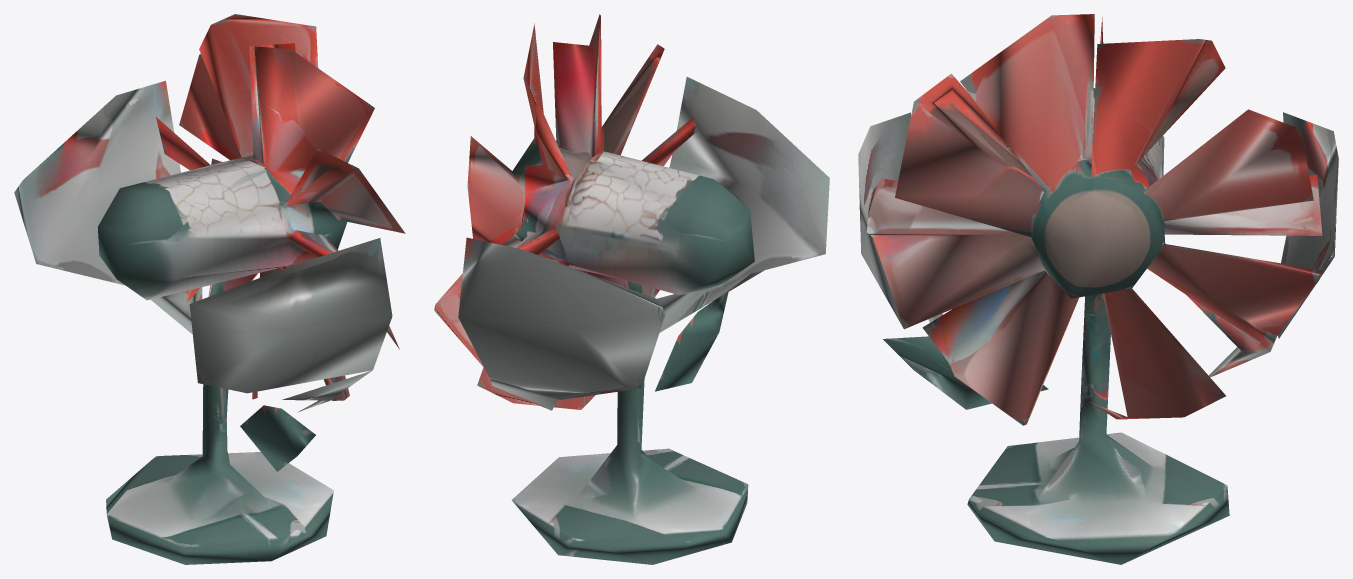
The model's file is TripoModel.glb.
The picture shows the model from 3 angles, left to right: view 1: azimuth 30°, elevation 25°; view 2: azimuth 150°, elevation 25°; view 3: azimuth 270°, elevation 25°; orthographic projection. The views are drawn at different scales.
Visible parts, largest first — view 1: tripo_node_85e3d449-8cf4-4e65-8ac4-ca77d2cbecc3; view 2: tripo_node_85e3d449-8cf4-4e65-8ac4-ca77d2cbecc3; view 3: tripo_node_85e3d449-8cf4-4e65-8ac4-ca77d2cbecc3.
Part boxes in pixels (x1,y1,x2,y2): tripo_node_85e3d449-8cf4-4e65-8ac4-ca77d2cbecc3: (14, 14, 405, 564); tripo_node_85e3d449-8cf4-4e65-8ac4-ca77d2cbecc3: (434, 14, 829, 564); tripo_node_85e3d449-8cf4-4e65-8ac4-ca77d2cbecc3: (858, 14, 1338, 564).
Bounding box in the file's own units: 0.5241 × 1 × 0.8388.
Materials: 1 (1 with a texture image).
